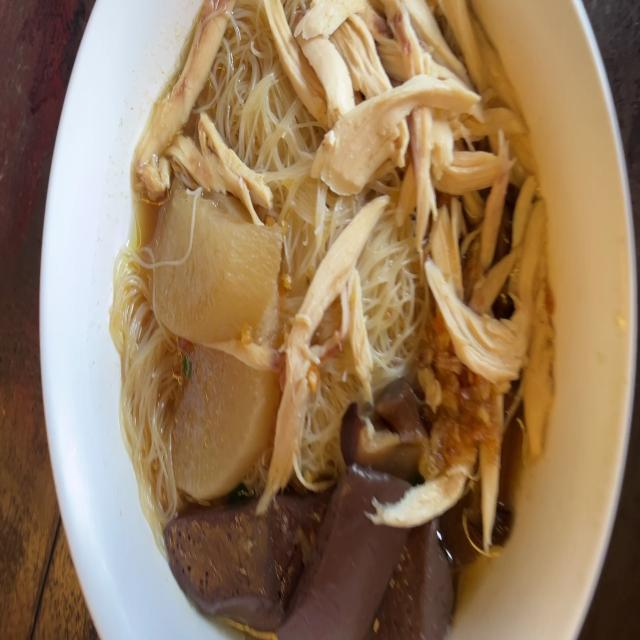boiled_chicken_blood_jelly: (290, 462, 397, 630), (166, 506, 300, 618), (404, 504, 450, 640)
chicken_shredded: (299, 0, 556, 471), (138, 7, 228, 190)
daikon_radish: (156, 182, 280, 342), (152, 344, 282, 492)
noodle: (105, 0, 566, 640)
